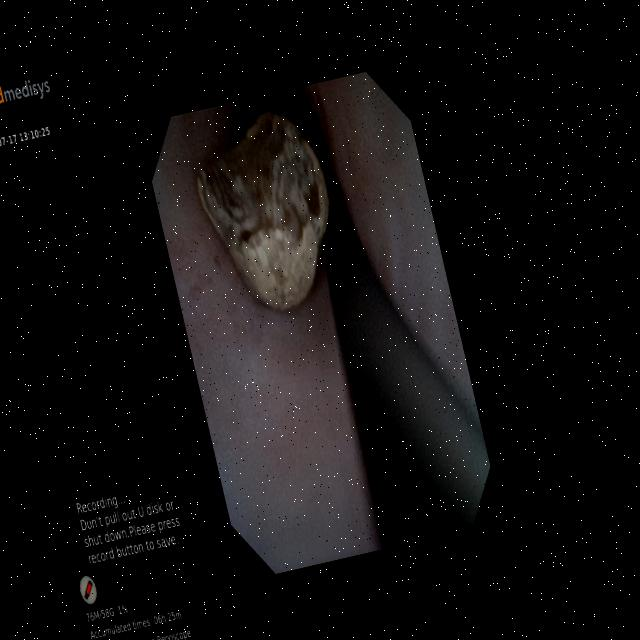stone-new: (196, 111, 328, 309)
